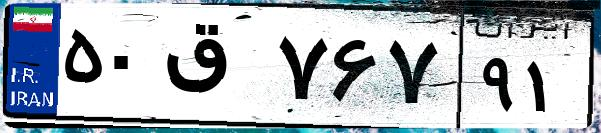0: (110, 28, 158, 98)
1: (525, 38, 570, 115)
5: (57, 26, 110, 100)
6: (330, 28, 385, 110)
7: (270, 28, 330, 110), (385, 28, 445, 110)
9: (475, 38, 525, 113)
ق: (158, 20, 270, 120)
